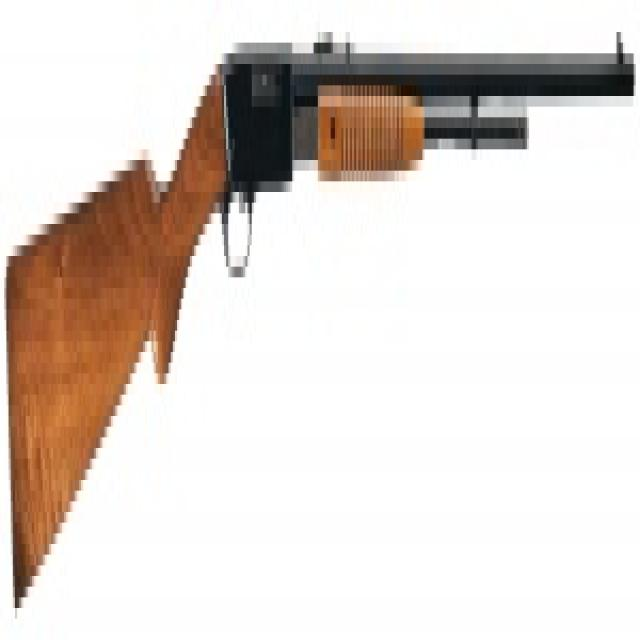rifle: (4, 1, 638, 622)
